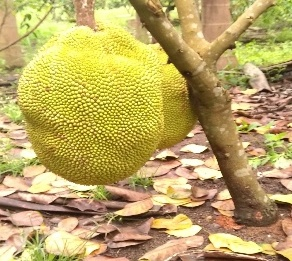Mit: (18, 27, 196, 184)
